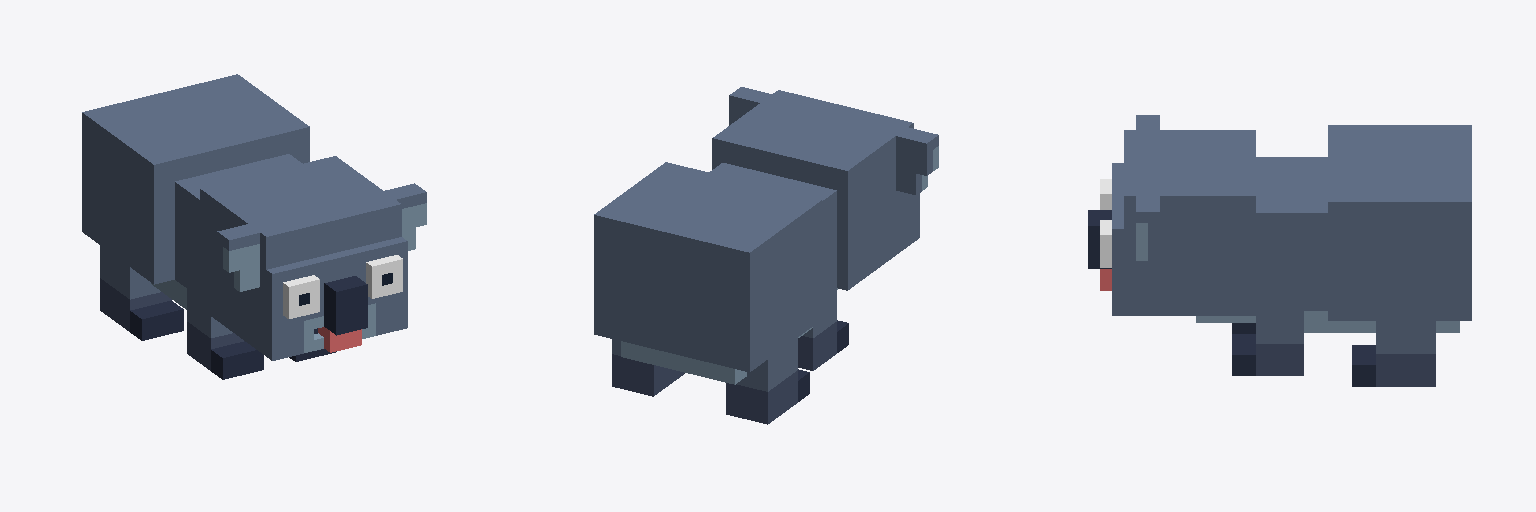
The picture shows the model from 3 angles: view 1: azimuth 30°, elevation 25°; view 2: azimuth 150°, elevation 25°; view 3: azimuth 270°, elevation 25°; orthographic projection.
Visible parts, largest first — view 1: Koala; view 2: Koala; view 3: Koala.
Part boxes in pixels (x1,y1,x2,y2): Koala: (82,74,426,379); Koala: (594,87,938,424); Koala: (1088,115,1471,386).
Size of the model in its own units: 0.57 by 0.51 by 0.96.
Materials: 1 (1 with a texture image).